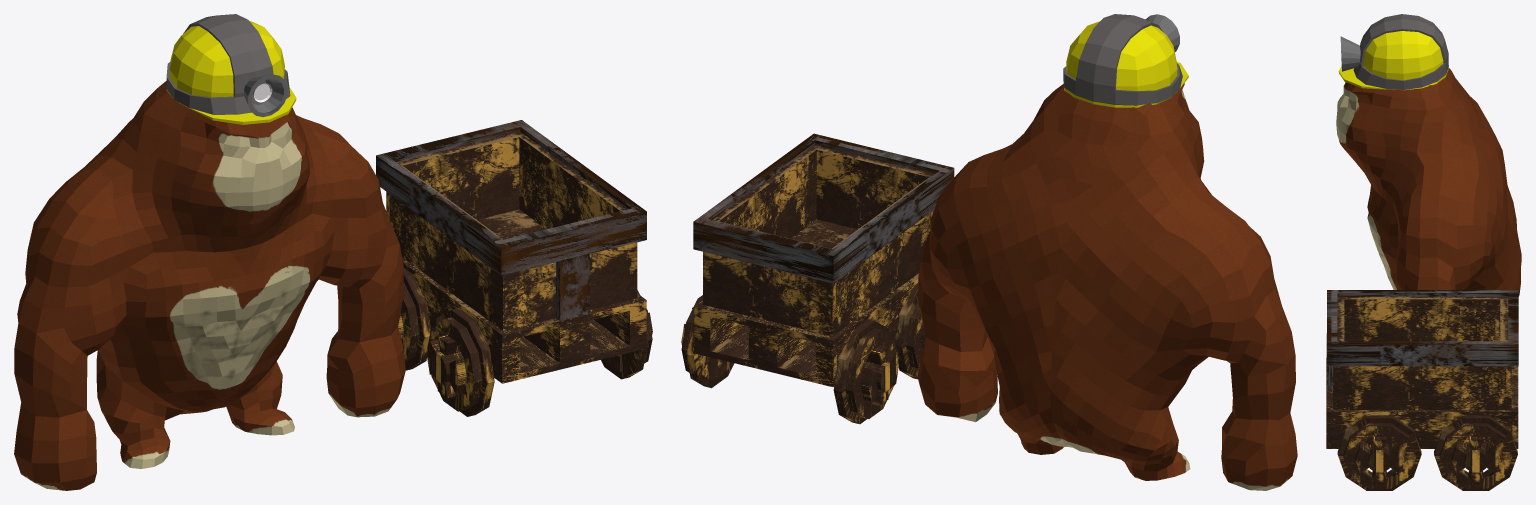
File: Carro.fbx
3 views of the same model, side by side, from view 1: azimuth 30°, elevation 25°; view 2: azimuth 150°, elevation 25°; view 3: azimuth 270°, elevation 25° (orthographic). The views are drawn at different scales.
Parts seen in each view (by area): view 1: Mono, vagoneta; view 2: Mono, vagoneta; view 3: vagoneta, Mono.
Part boxes in pixels (x1,y1,x2,y2): Mono: [14, 14, 405, 490]; vagoneta: [376, 120, 652, 416]; Mono: [918, 14, 1297, 490]; vagoneta: [681, 133, 954, 424]; vagoneta: [1326, 290, 1518, 490]; Mono: [1336, 14, 1521, 296].
Bounding box in the file's own units: 302 × 214 × 113.
8 materials, 4 textured.
